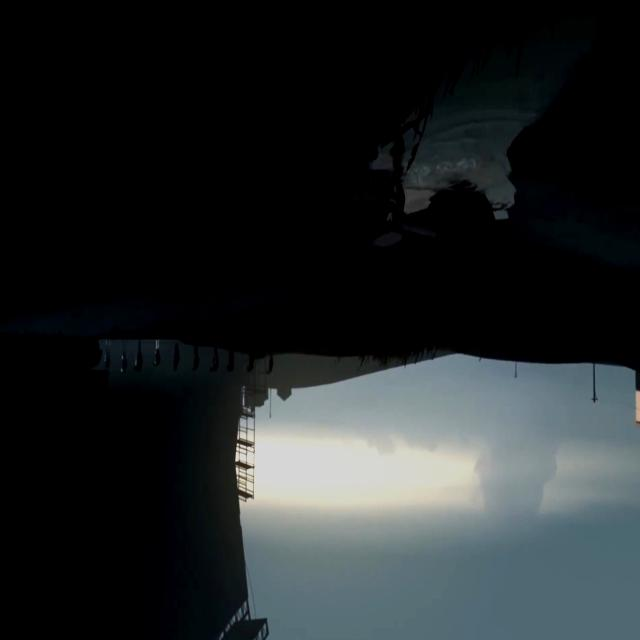boy: (386, 141, 408, 239)
zombie: (133, 342, 143, 372), (173, 339, 180, 372), (121, 342, 128, 374), (153, 338, 161, 365), (192, 345, 200, 372), (210, 347, 218, 373), (104, 340, 111, 369), (266, 355, 274, 375), (227, 350, 234, 372), (247, 353, 254, 372)
